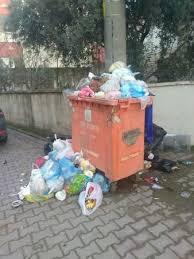Container: (67, 90, 149, 191), (66, 95, 146, 147), (108, 100, 147, 185)
Garbage: (20, 136, 87, 218), (81, 59, 149, 98), (25, 173, 46, 213), (75, 191, 106, 213), (51, 174, 70, 208), (49, 136, 70, 166), (146, 174, 165, 195), (111, 69, 133, 87), (126, 81, 145, 99), (32, 158, 57, 171), (88, 74, 109, 88)
